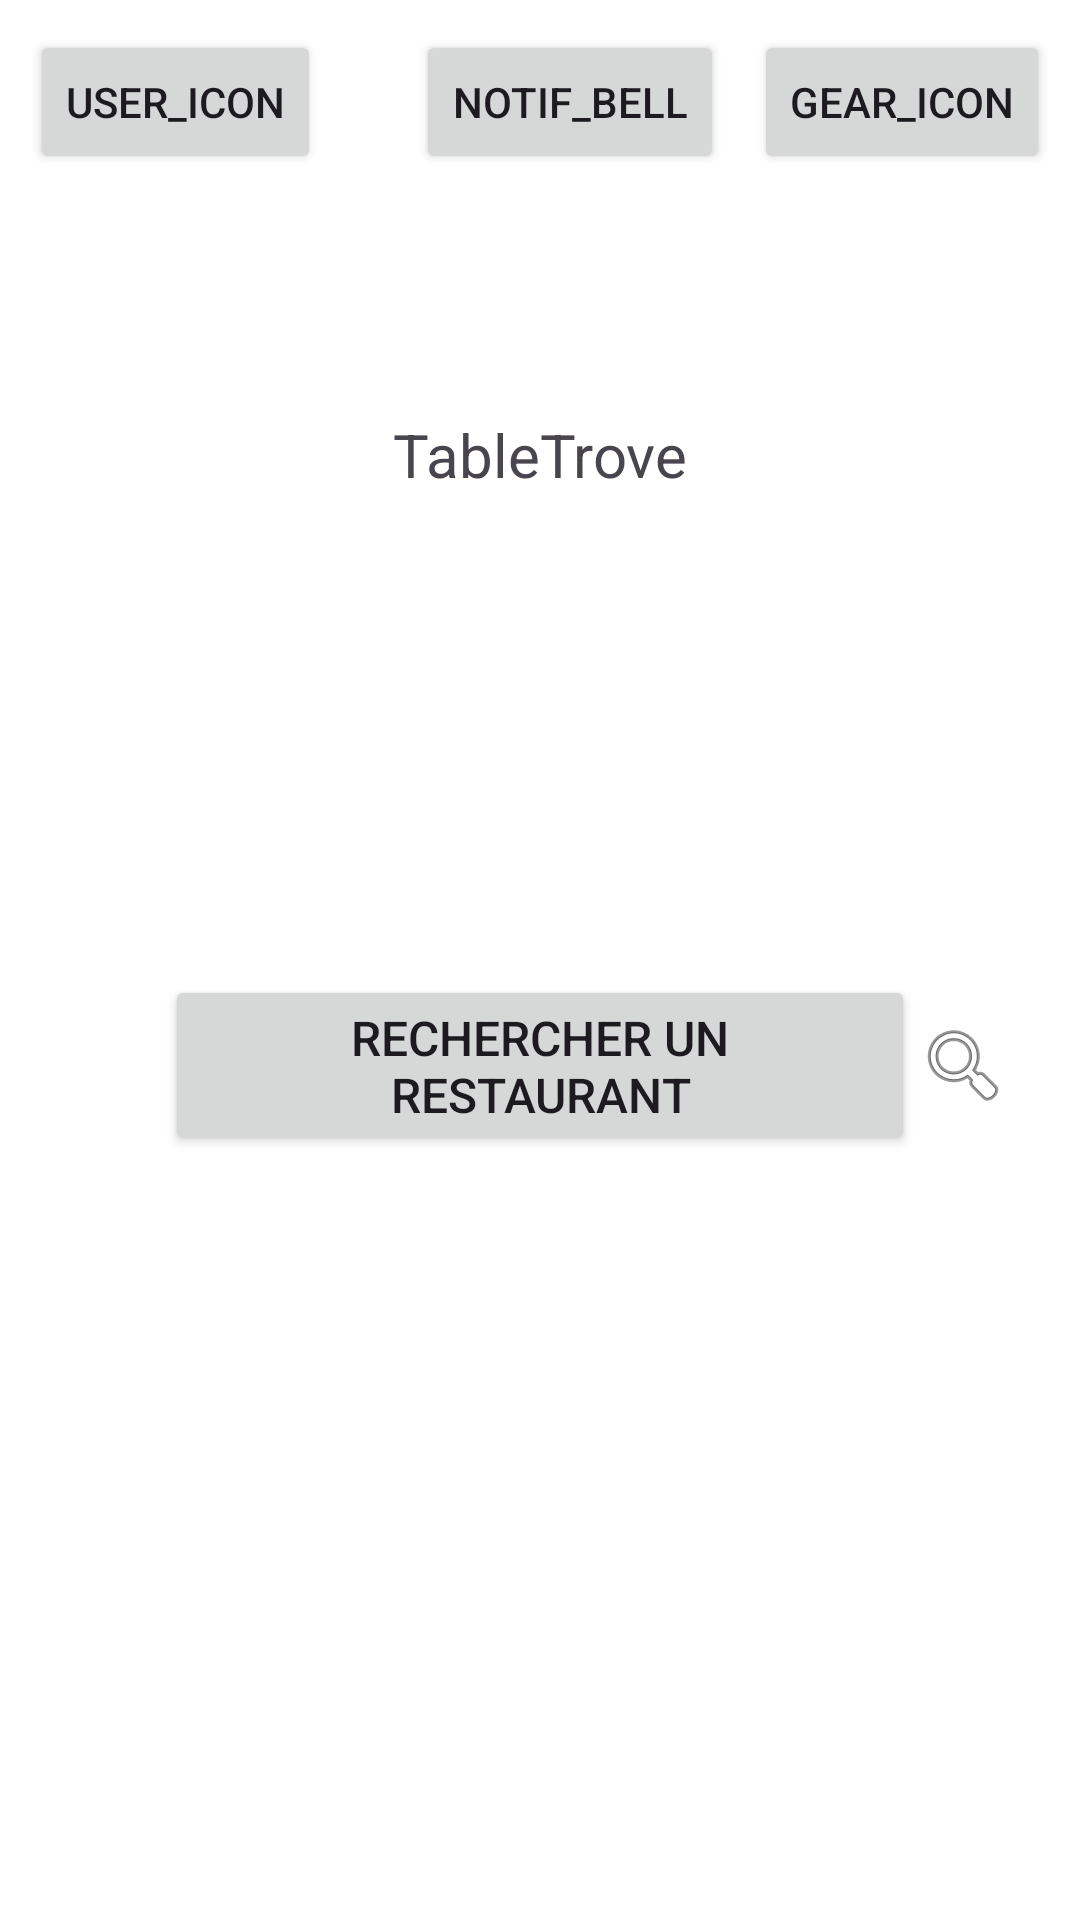

Named icons in this screenshot (1080x1920) and their bounding boxes, (x1,y1,x2,y2):
search: (927,1030,999,1101)
